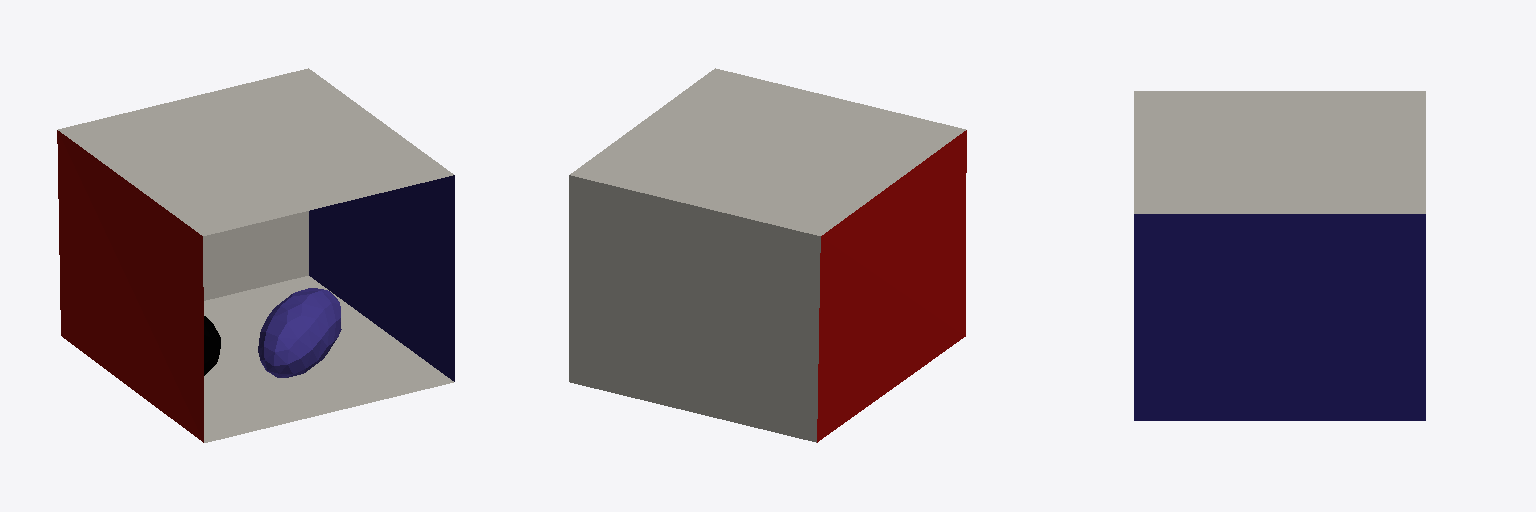
Rendered from CornellBox-Ellipsoid-425.obj.
The picture shows the model from 3 angles: view 1: azimuth 30°, elevation 25°; view 2: azimuth 150°, elevation 25°; view 3: azimuth 270°, elevation 25°; orthographic projection.
Visible parts, largest first — view 1: ceiling, leftWall, rightWall, floor, backWall, leftSphere, rightSphere; view 2: backWall, ceiling, leftWall; view 3: rightWall, ceiling.
Boxes of the visible parts, x1=… form: ceiling: x1=58, y1=68, x2=453, y2=235; leftWall: x1=57, y1=130, x2=203, y2=442; rightWall: x1=309, y1=175, x2=454, y2=381; floor: x1=204, y1=276, x2=453, y2=442; backWall: x1=203, y1=211, x2=308, y2=300; leftSphere: x1=258, y1=288, x2=341, y2=377; rightSphere: x1=204, y1=316, x2=220, y2=375; backWall: x1=569, y1=175, x2=820, y2=442; ceiling: x1=570, y1=68, x2=965, y2=235; leftWall: x1=817, y1=130, x2=966, y2=442; rightWall: x1=1134, y1=214, x2=1425, y2=420; ceiling: x1=1134, y1=91, x2=1425, y2=213.
Bounding box in the file's own units: 2.02 × 1.59 × 2.03.